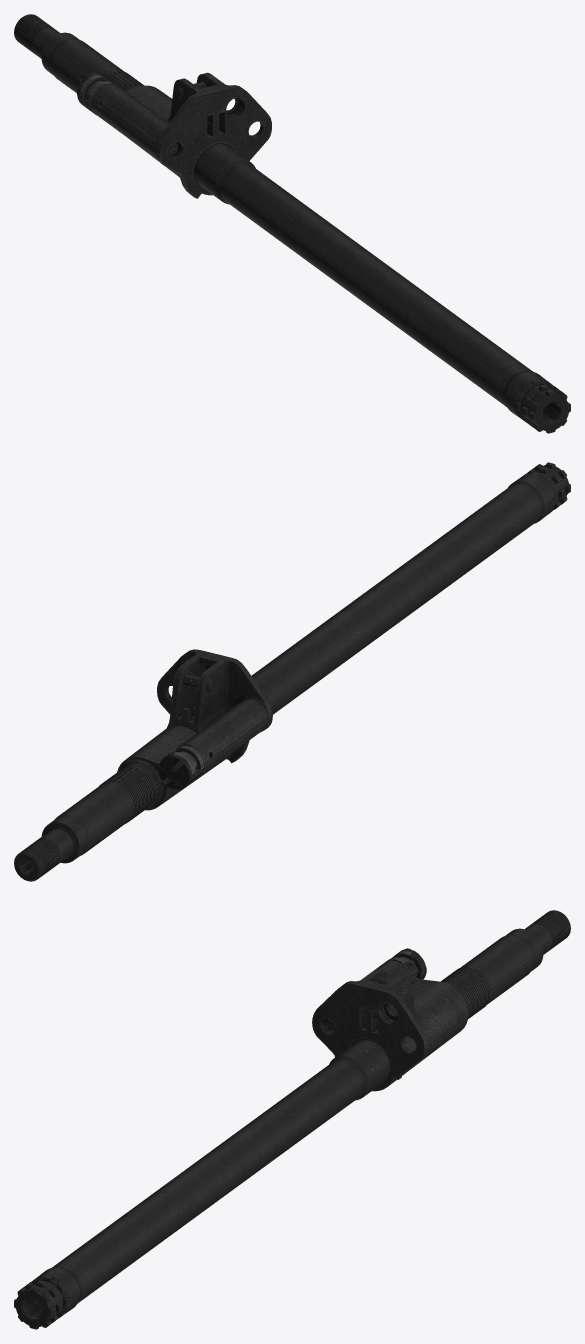
3 views of the same model, one above another, from view 1: azimuth 30°, elevation 25°; view 2: azimuth 150°, elevation 25°; view 3: azimuth 330°, elevation 25° (orthographic).
Parts seen in each view (by area): view 1: TW_630e39c3bd357927e4007c15_PZ_Import; view 2: TW_630e39c3bd357927e4007c15_PZ_Import; view 3: TW_630e39c3bd357927e4007c15_PZ_Import.
Part boxes in pixels (x1=…): TW_630e39c3bd357927e4007c15_PZ_Import: x1=14, y1=14, x2=570, y2=433; TW_630e39c3bd357927e4007c15_PZ_Import: x1=14, y1=462, x2=570, y2=881; TW_630e39c3bd357927e4007c15_PZ_Import: x1=14, y1=910, x2=570, y2=1329.
Size of the model in its own units: 0.0301 by 0.2441 by 0.0263.
1 material, 1 textured.
